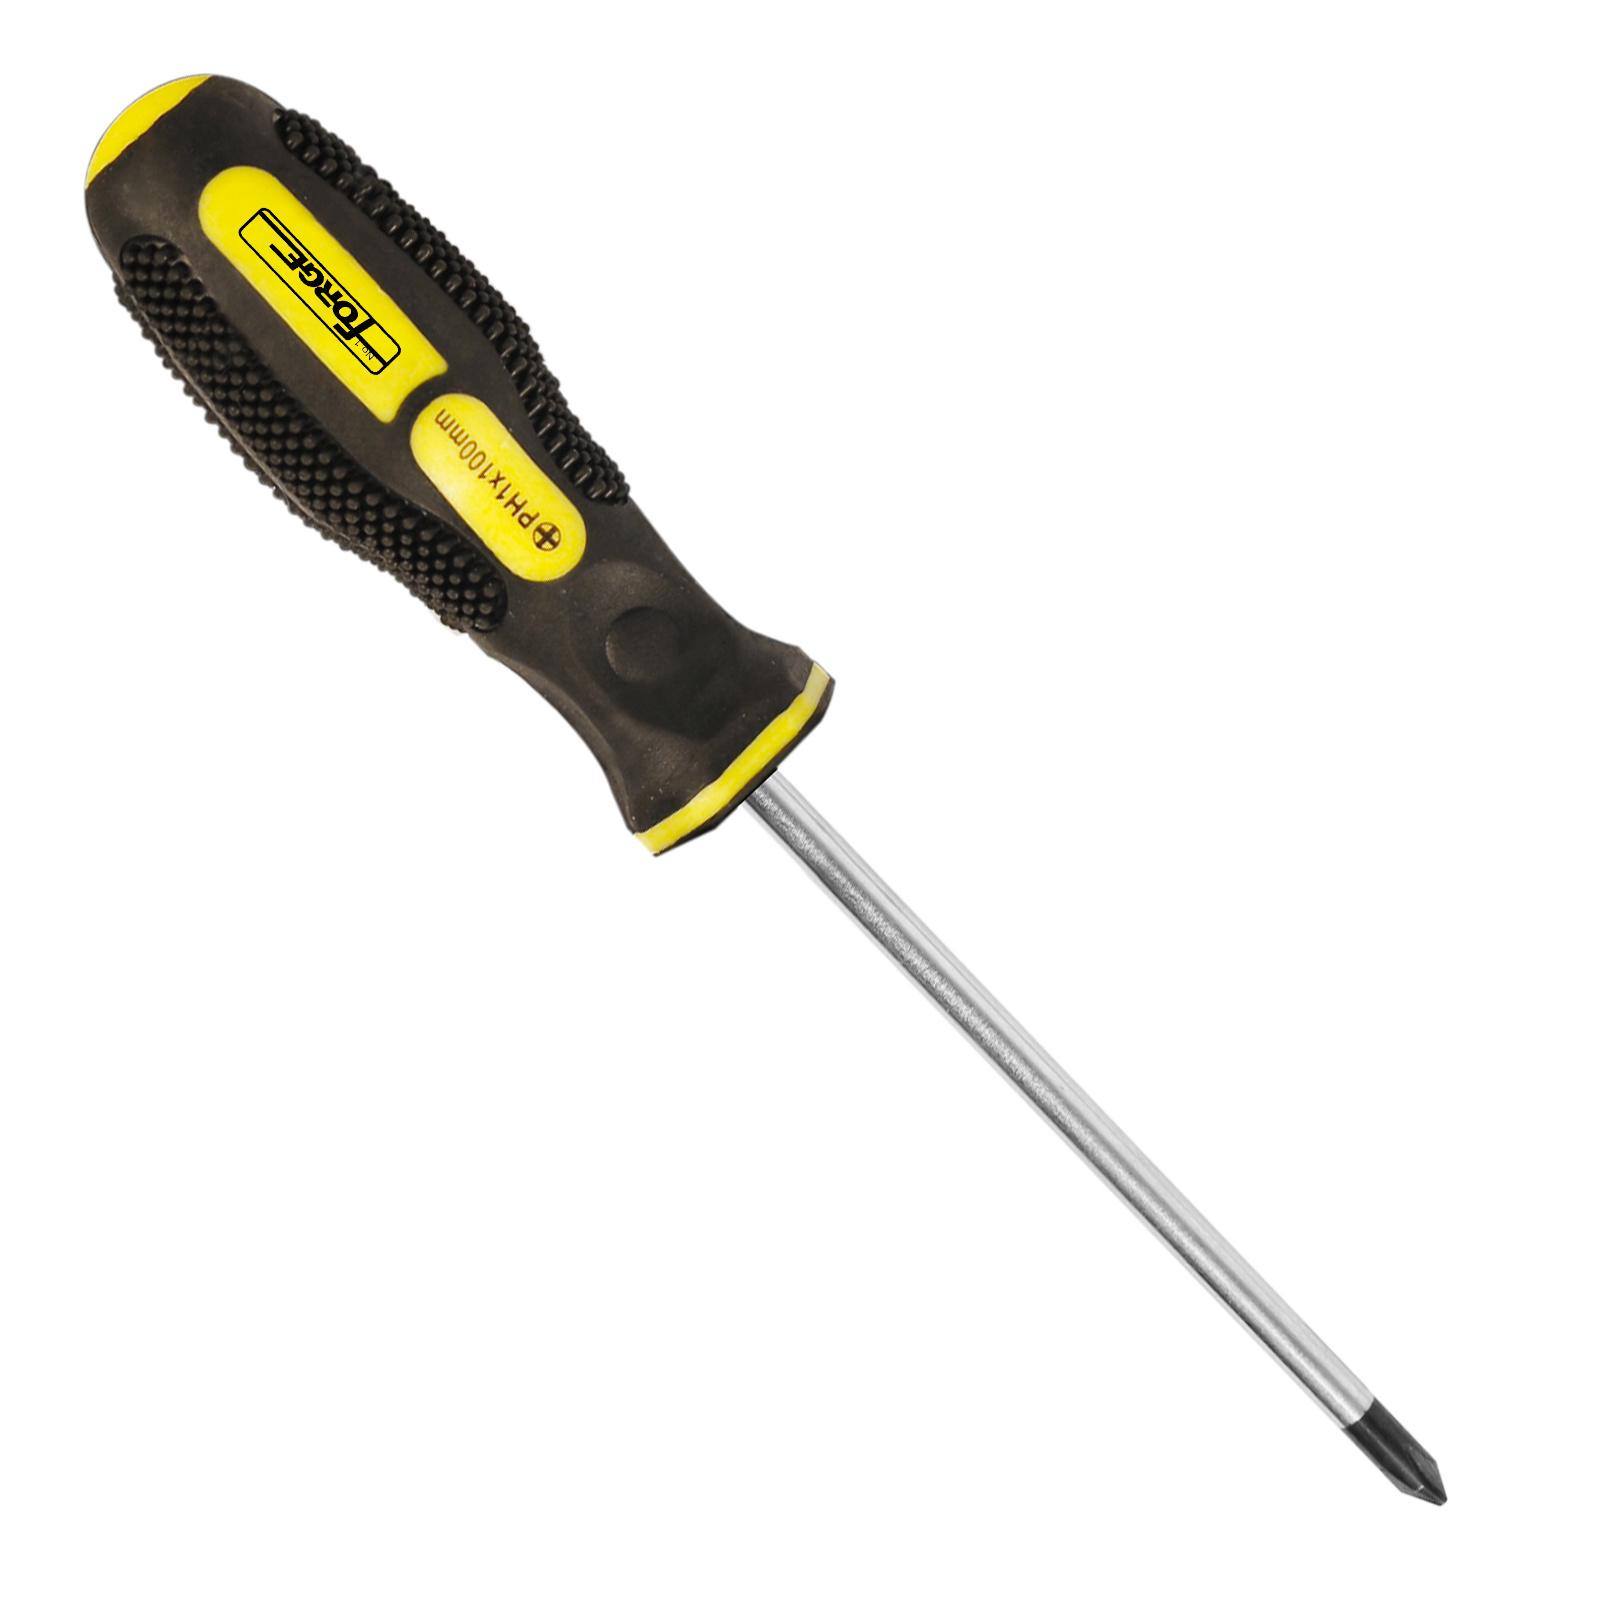Screwdriver: (0, 60, 1525, 1525)
